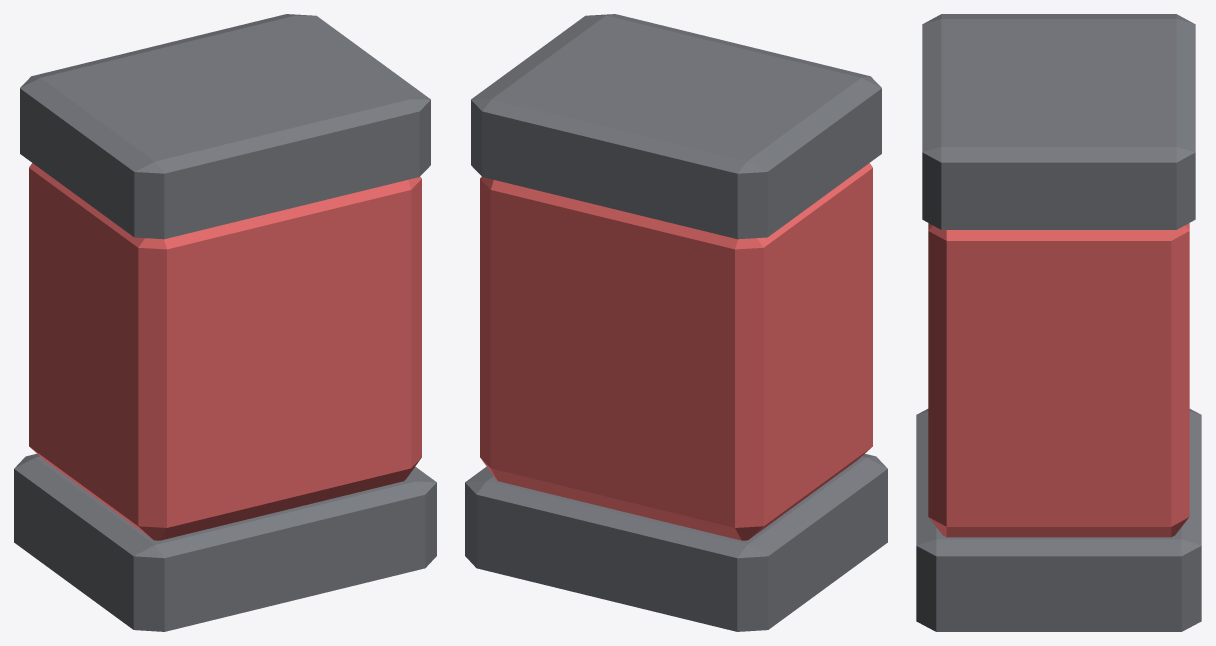
File: b05_classic_fire_hydrant.glb
3 views of the same model, side by side, from view 1: azimuth 30°, elevation 25°; view 2: azimuth 150°, elevation 25°; view 3: azimuth 270°, elevation 25° (orthographic). The views are drawn at different scales.
Visible parts, largest first — view 1: b05_classic_fire_hydrant; view 2: b05_classic_fire_hydrant; view 3: b05_classic_fire_hydrant.
Part boxes in pixels (bbox=[...]): b05_classic_fire_hydrant: bbox=[14, 14, 436, 631]; b05_classic_fire_hydrant: bbox=[465, 14, 887, 631]; b05_classic_fire_hydrant: bbox=[916, 14, 1201, 631].
Size of the model in its own units: 0.68 by 1 by 0.54.
